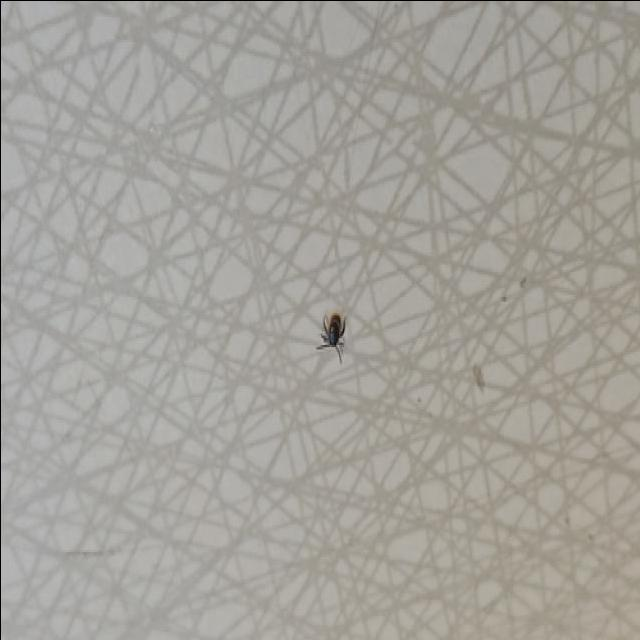Ixodes Ricinus-M: (314, 312, 346, 364)
